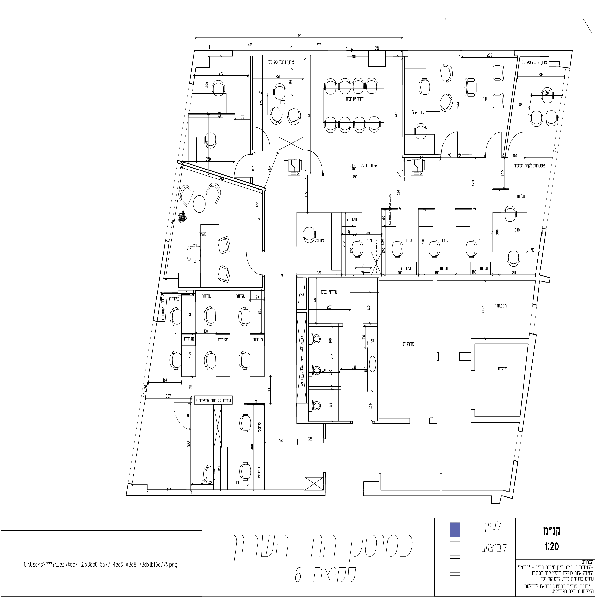door: (233, 146, 264, 188), (243, 244, 273, 278), (474, 130, 507, 160), (441, 131, 465, 158)
